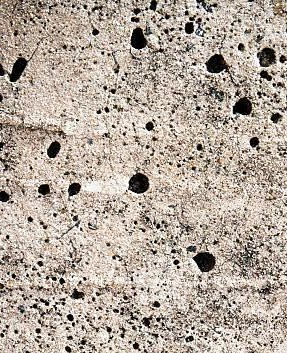Spalling: (1, 1, 287, 353)
